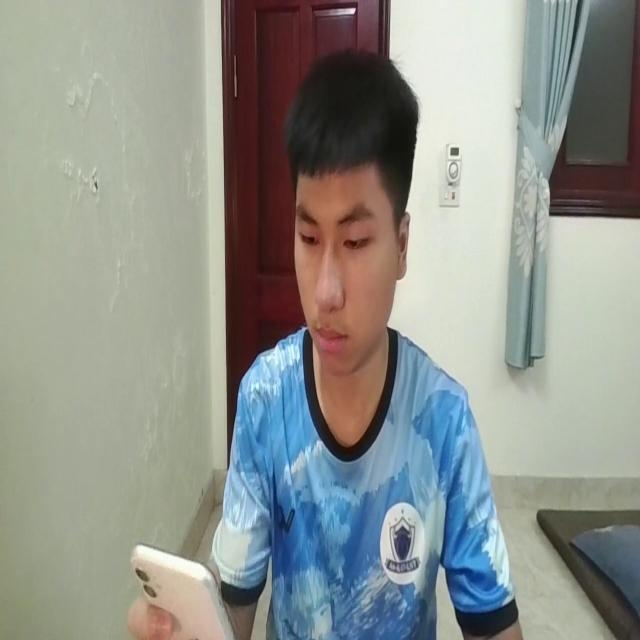phone: (128, 538, 238, 640)
student: (134, 44, 526, 640)
